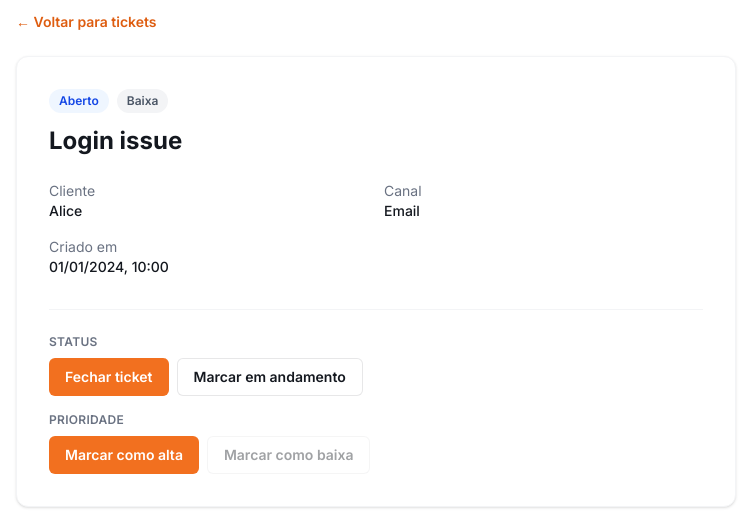
Test: TicketDetail › closes the ticket and updates the UI when clicking the close button
Click the button "Fechar ticket" at (109, 377), box [49, 358, 168, 396]
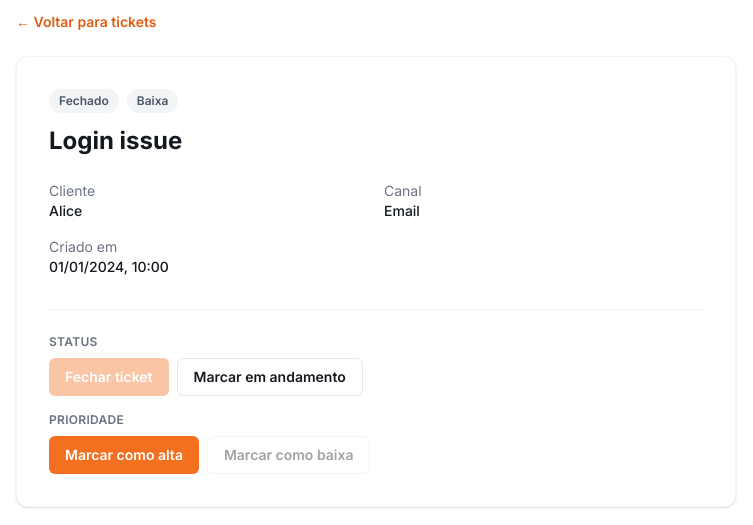
Now the text "Fechado" is shown, box [49, 89, 119, 113]
